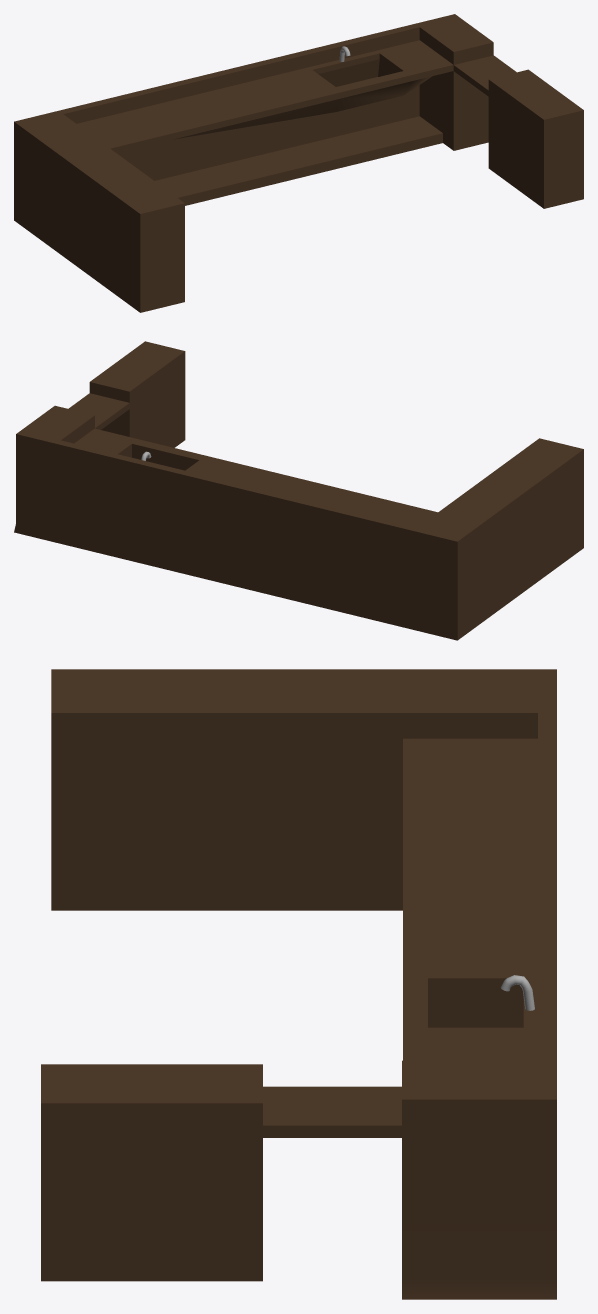
The model's file is Bar_Temp.fbx.
3 views of the same model, one above another, from view 1: azimuth 30°, elevation 25°; view 2: azimuth 150°, elevation 25°; view 3: azimuth 270°, elevation 25° (orthographic). The views are drawn at different scales.
Visible parts, largest first — view 1: polySurface1; view 2: polySurface1; view 3: polySurface1.
Boxes of the visible parts, x1,y1,x2,y2 form: polySurface1: [14, 14, 583, 312]; polySurface1: [14, 341, 583, 640]; polySurface1: [41, 669, 556, 1299].
Bounding box in the file's own units: 516 × 114 × 260.
